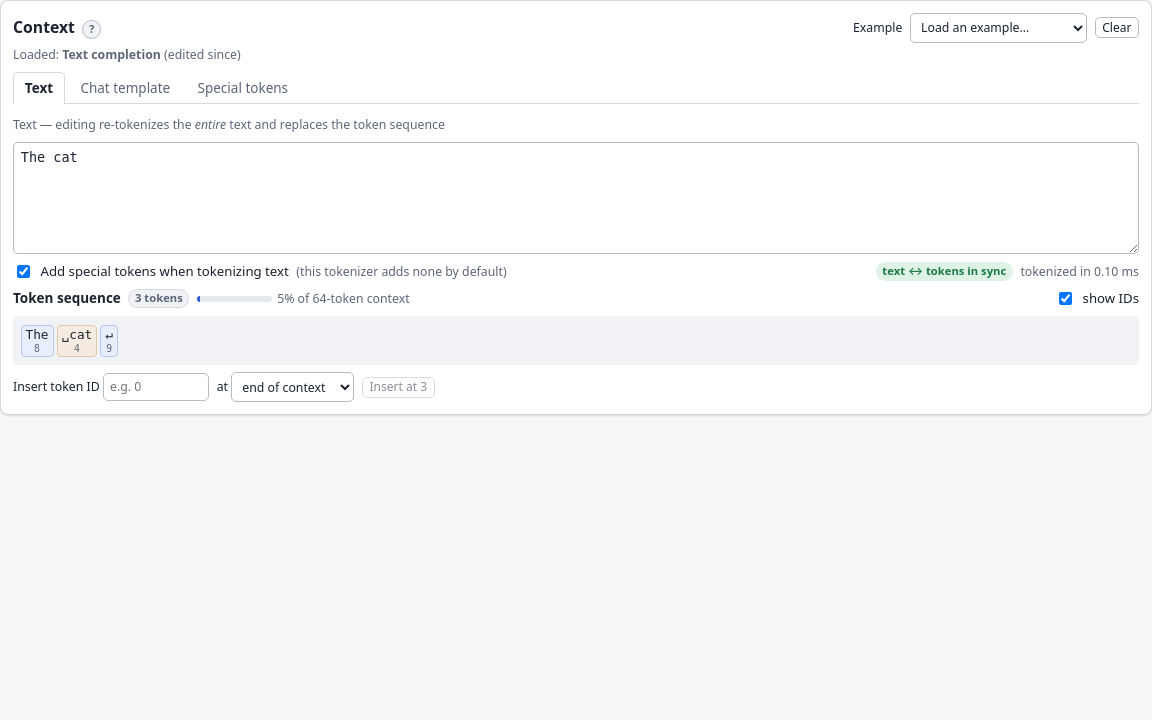
Test: ContextWorkspace › opens an inspector with ID, position, escaped text and bytes
Click the button "↵ 9". click: (109, 341)
box: [100,325,118,357]
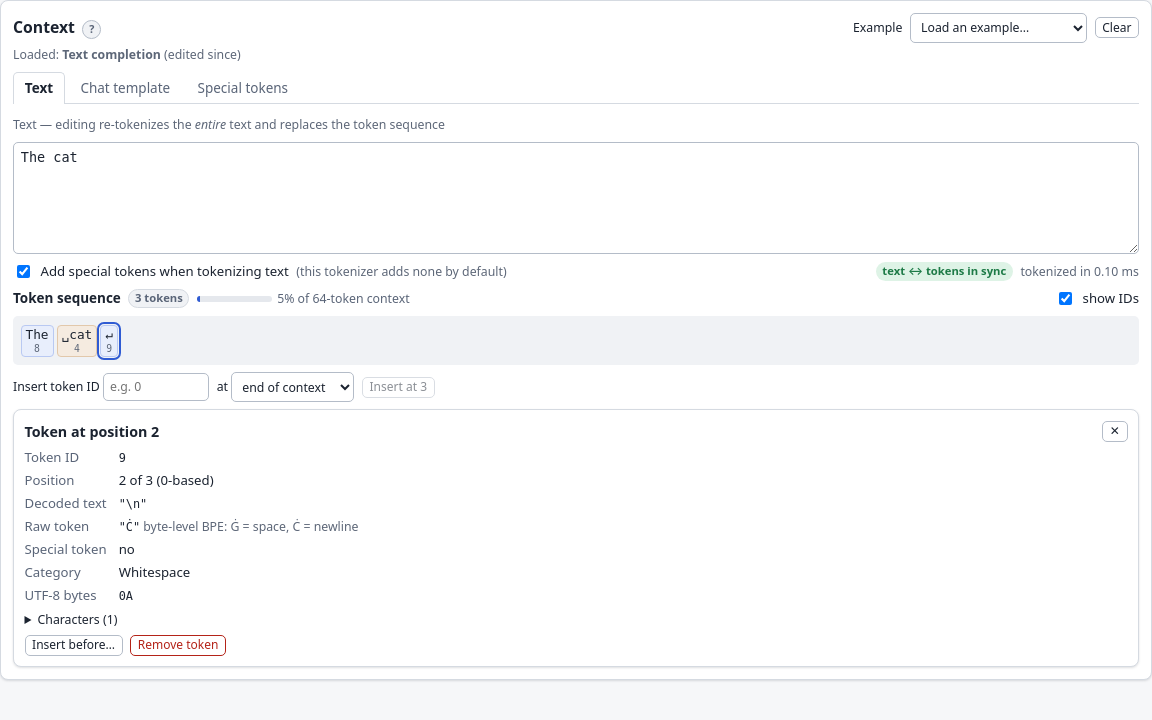
Check: the text with test id "inspector-id" reads "9", box [119,451,126,465]
Check: the element with test id "token-inspector" shows "position 2", box [24,422,159,441]
Check: the text with test id "inspector-decoded" reads "\"\\n\"", box [119,497,147,511]
